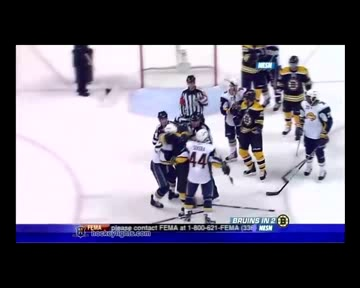normal: (269, 51, 336, 182), (213, 75, 274, 184)
